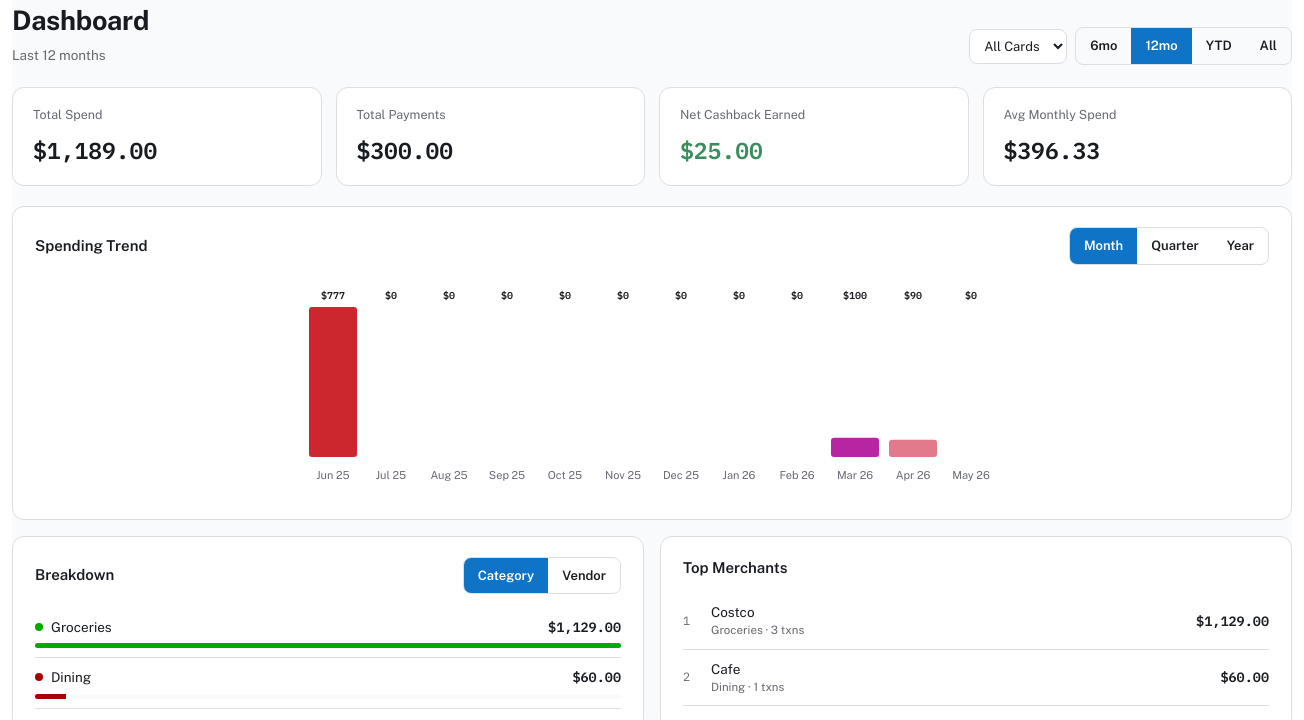
it: Dashboard breakdown › switches to per-vendor totals
Click the button "Vendor": coordinates (584, 575) [548,558,620,593]
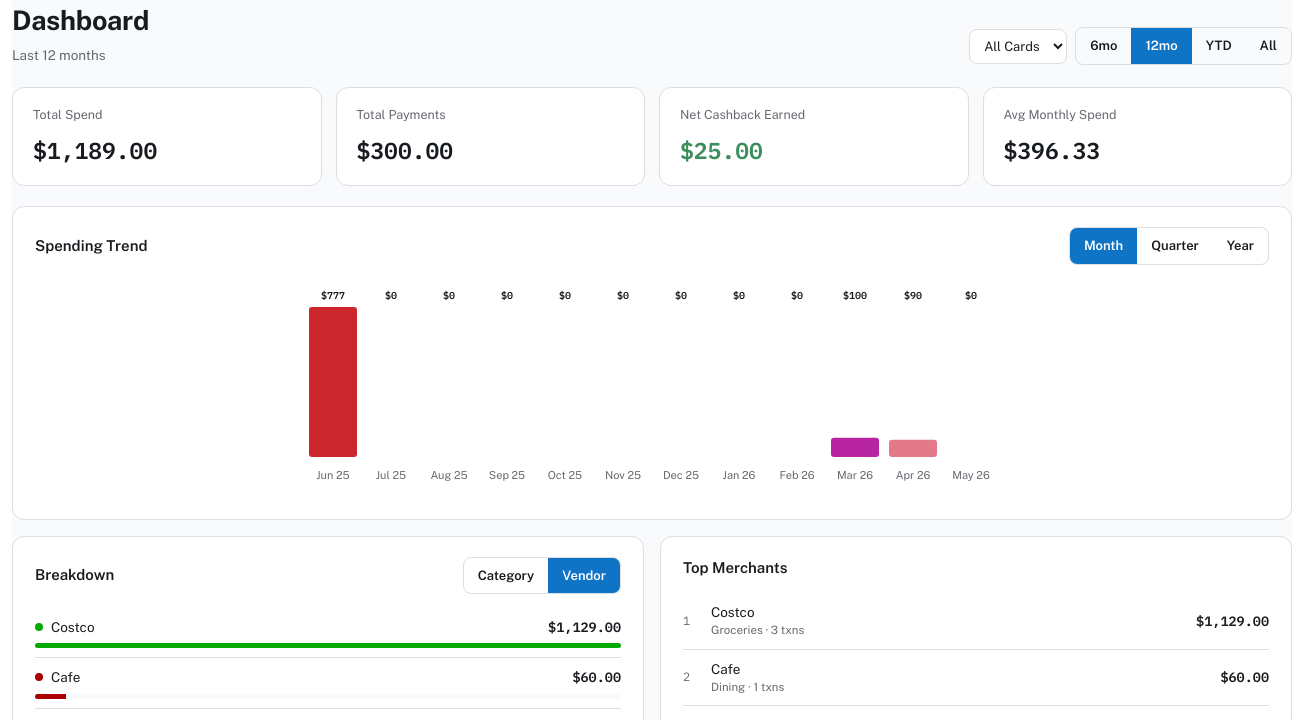
Expected: the text "Costco" below "Breakdown" is shown, [51,619,94,635]
Expected: the text "Cafe" below "Breakdown" is shown, [51,669,80,685]
